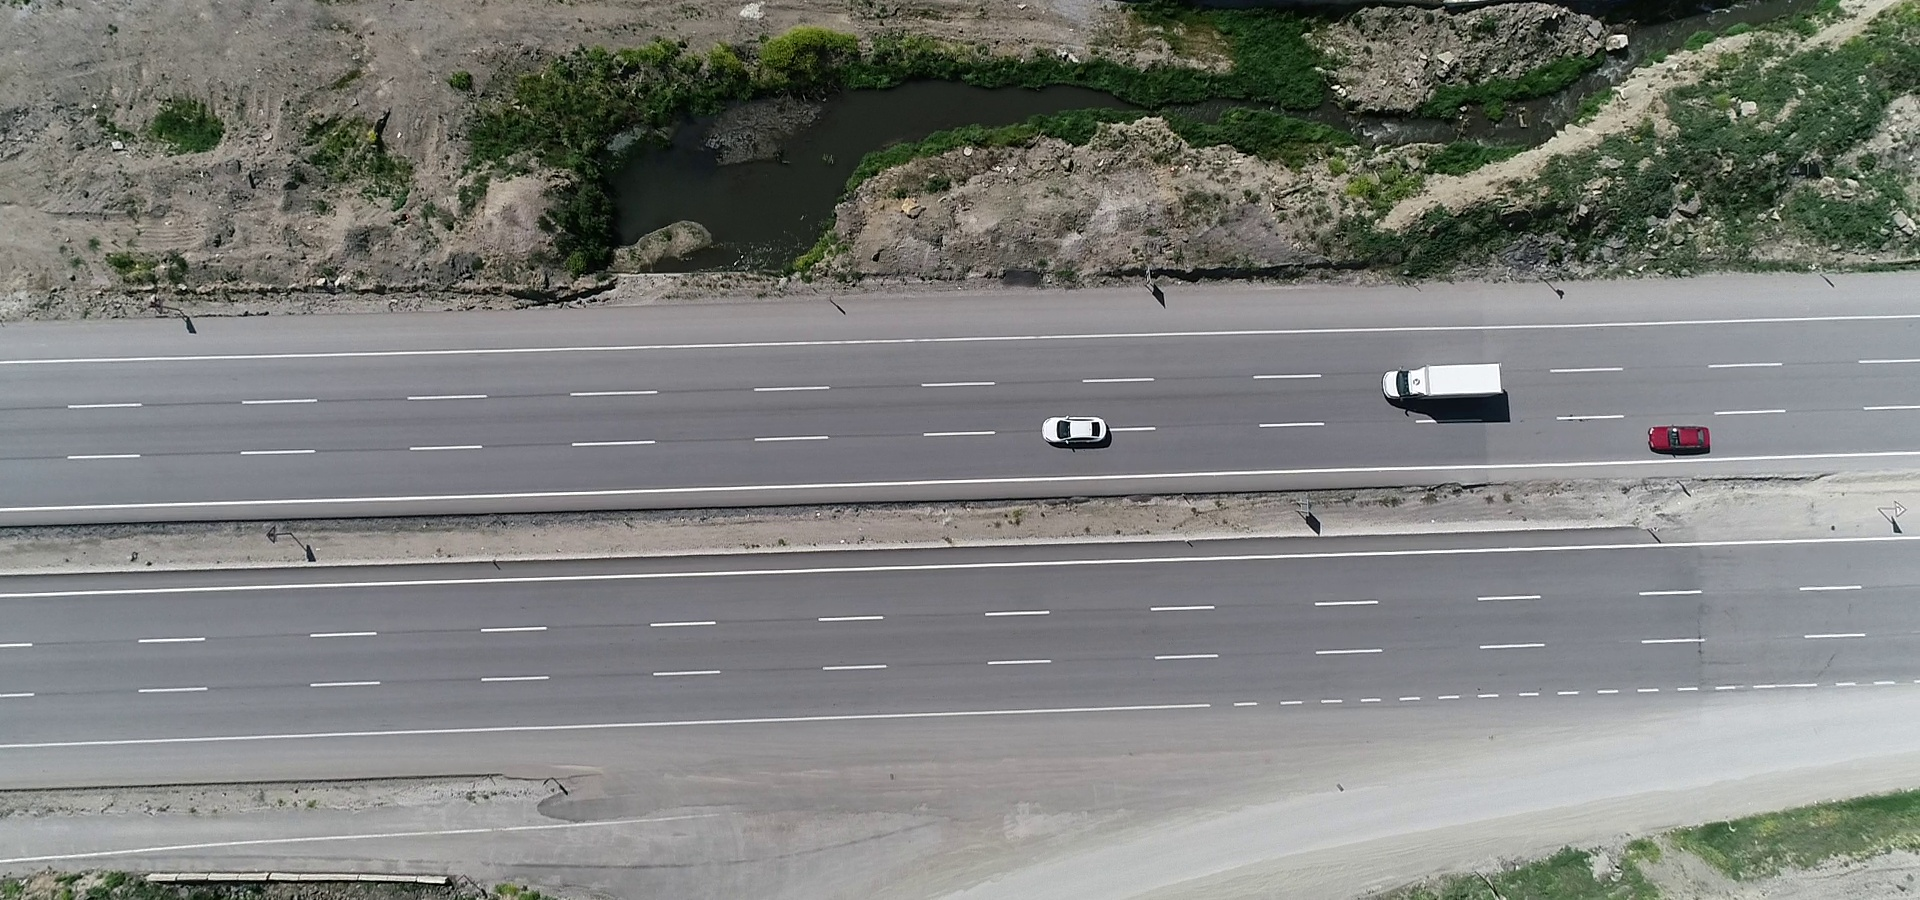araba: (1646, 419, 1733, 462), (1041, 408, 1116, 453)
kamyon: (1378, 356, 1533, 410)
